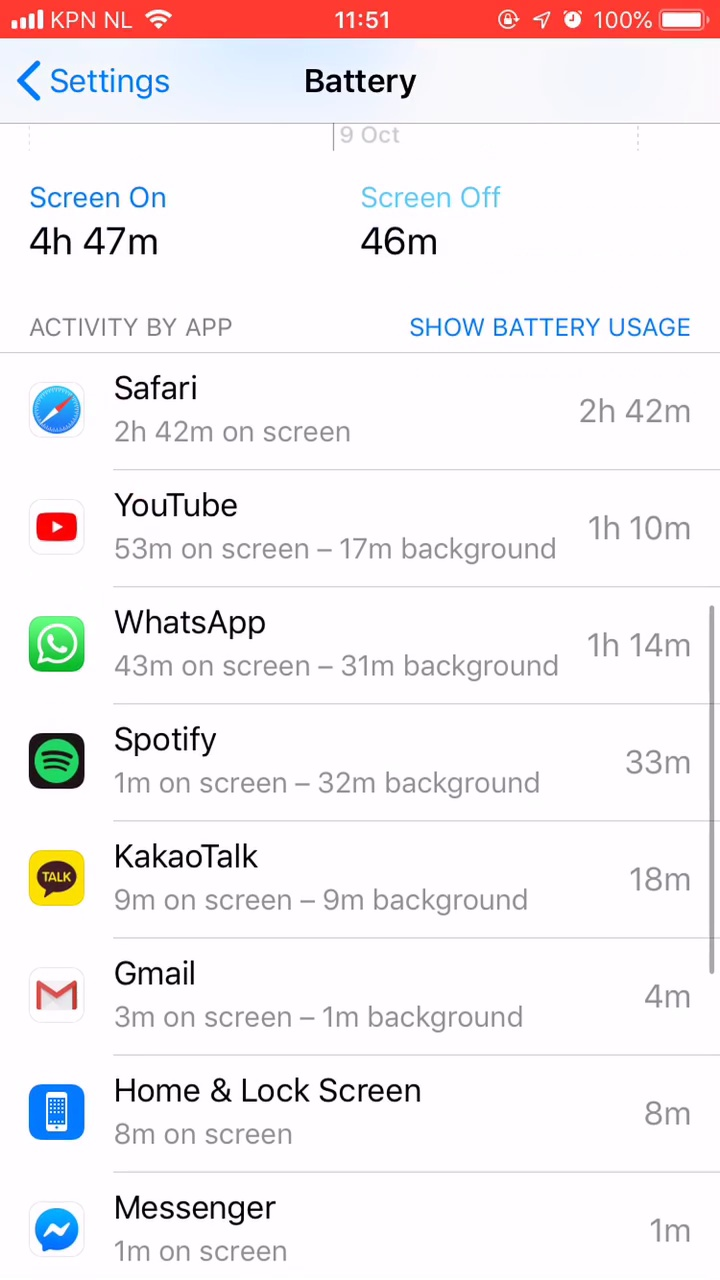app: (24, 366, 710, 448), (22, 485, 708, 567), (20, 606, 706, 688), (16, 722, 702, 804), (17, 835, 703, 917), (15, 956, 701, 1038), (23, 1073, 709, 1155), (26, 1187, 712, 1269)
